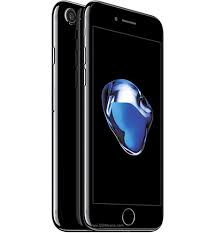iphone: (77, 1, 166, 233)
iphone7: (77, 1, 166, 233)
